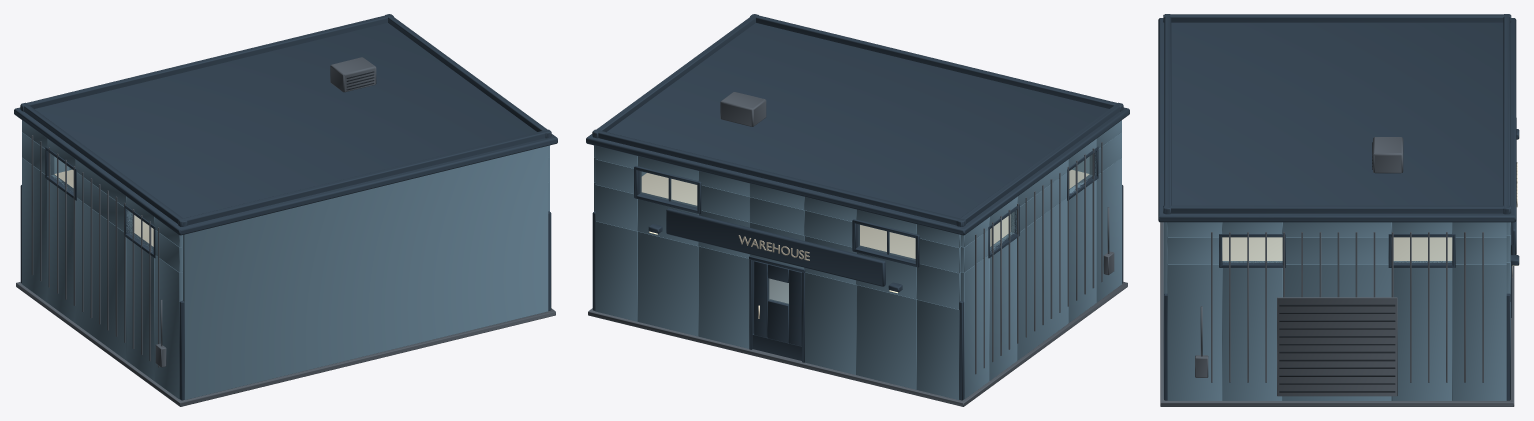
File: warehouse.glb
3 views of the same model, side by side, from view 1: azimuth 30°, elevation 25°; view 2: azimuth 150°, elevation 25°; view 3: azimuth 270°, elevation 25° (orthographic). The views are drawn at different scales.
Visible parts, largest first — view 1: shell_4_wall, roof_4_trim, shell_4_metal, shell_4_trim, roof_4_metal, glass_4_glass, roof_4_ivory; view 2: shell_4_wall, roof_4_trim, shell_4_trim, shell_4_metal, glass_4_glass, door_4_trim, roof_4_ivory, roof_4_metal; view 3: roof_4_trim, shell_4_wall, shell_4_metal, shell_4_trim, shell_4_dark, glass_4_glass, roof_4_ivory, roof_4_metal.
Part boxes in pixels (x1=…): shell_4_wall: x1=22, y1=120, x2=549, y2=399; roof_4_trim: x1=14, y1=14, x2=557, y2=235; shell_4_metal: x1=16, y1=135, x2=555, y2=406; shell_4_trim: x1=20, y1=146, x2=551, y2=400; roof_4_metal: x1=330, y1=57, x2=376, y2=92; glass_4_glass: x1=50, y1=154, x2=153, y2=249; roof_4_ivory: x1=54, y1=170, x2=153, y2=246; shell_4_wall: x1=594, y1=120, x2=1121, y2=399; roof_4_trim: x1=586, y1=14, x2=1129, y2=235; shell_4_trim: x1=592, y1=146, x2=1123, y2=400; shell_4_metal: x1=588, y1=142, x2=1127, y2=406; glass_4_glass: x1=640, y1=155, x2=1092, y2=260; door_4_trim: x1=754, y1=260, x2=801, y2=346; roof_4_ivory: x1=641, y1=170, x2=1089, y2=258; roof_4_metal: x1=720, y1=92, x2=766, y2=126; roof_4_trim: x1=1158, y1=14, x2=1516, y2=222; shell_4_wall: x1=1163, y1=222, x2=1510, y2=400; shell_4_metal: x1=1160, y1=222, x2=1514, y2=406; shell_4_trim: x1=1164, y1=118, x2=1519, y2=400; shell_4_dark: x1=1279, y1=304, x2=1395, y2=392; glass_4_glass: x1=1222, y1=237, x2=1451, y2=262; roof_4_ivory: x1=1222, y1=237, x2=1452, y2=260; roof_4_metal: x1=1373, y1=137, x2=1403, y2=173.
Size of the model in its own units: 12.58 by 6.19 by 9.59.
